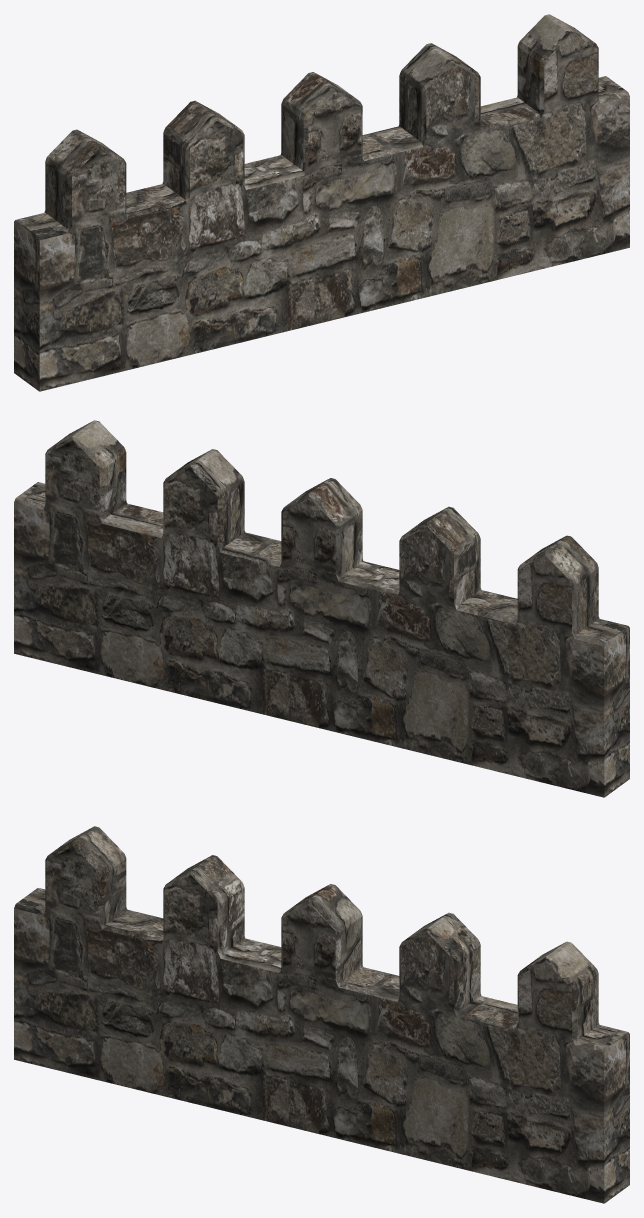
Rendered from Stone_Parapet.dae.
3 views of the same model, one above another, from view 1: azimuth 30°, elevation 25°; view 2: azimuth 150°, elevation 25°; view 3: azimuth 330°, elevation 25° (orthographic).
Parts seen in each view (by area): view 1: StoneParapet1; view 2: StoneParapet1; view 3: StoneParapet1.
Boxes of the visible parts, x1,y1,x2,y2 form: StoneParapet1: (14,14,629,391); StoneParapet1: (14,420,629,797); StoneParapet1: (14,826,629,1203).
Bounding box in the file's own units: 4 × 1.49 × 0.3.
1 material, 1 textured.
